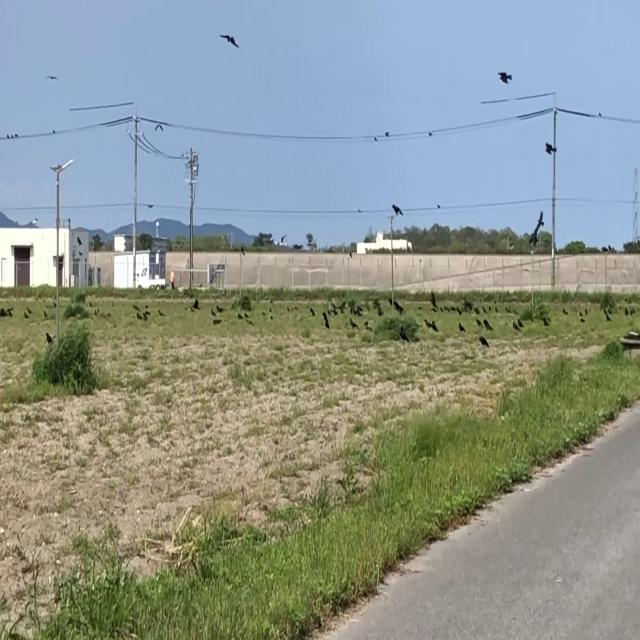bird: (220, 25, 238, 56), (498, 61, 511, 91), (545, 132, 555, 162), (391, 198, 402, 222), (323, 310, 329, 331), (481, 327, 487, 348), (482, 322, 488, 341), (158, 118, 163, 136), (483, 316, 488, 334), (459, 317, 463, 334), (310, 304, 314, 320), (624, 304, 628, 317)
